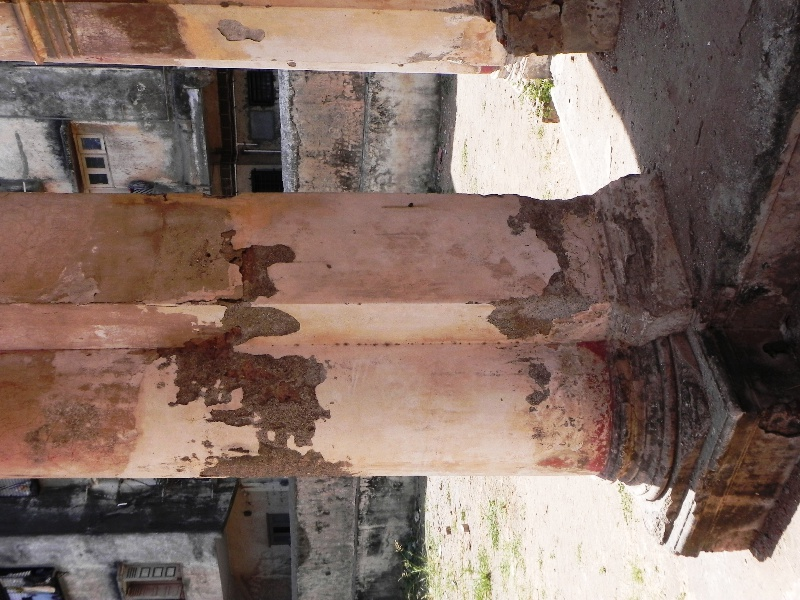Spalling: (159, 344, 356, 479), (203, 226, 305, 344), (483, 274, 603, 344), (498, 194, 600, 274), (513, 349, 555, 411), (212, 12, 269, 49)
